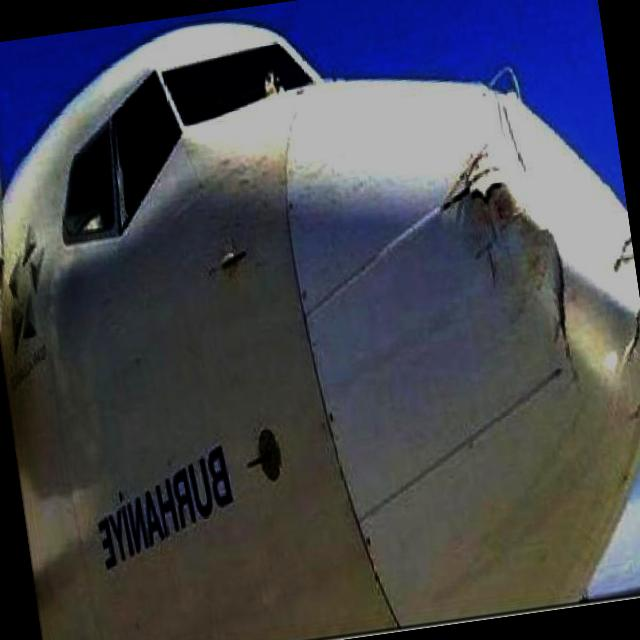dent: (445, 66, 640, 342)
